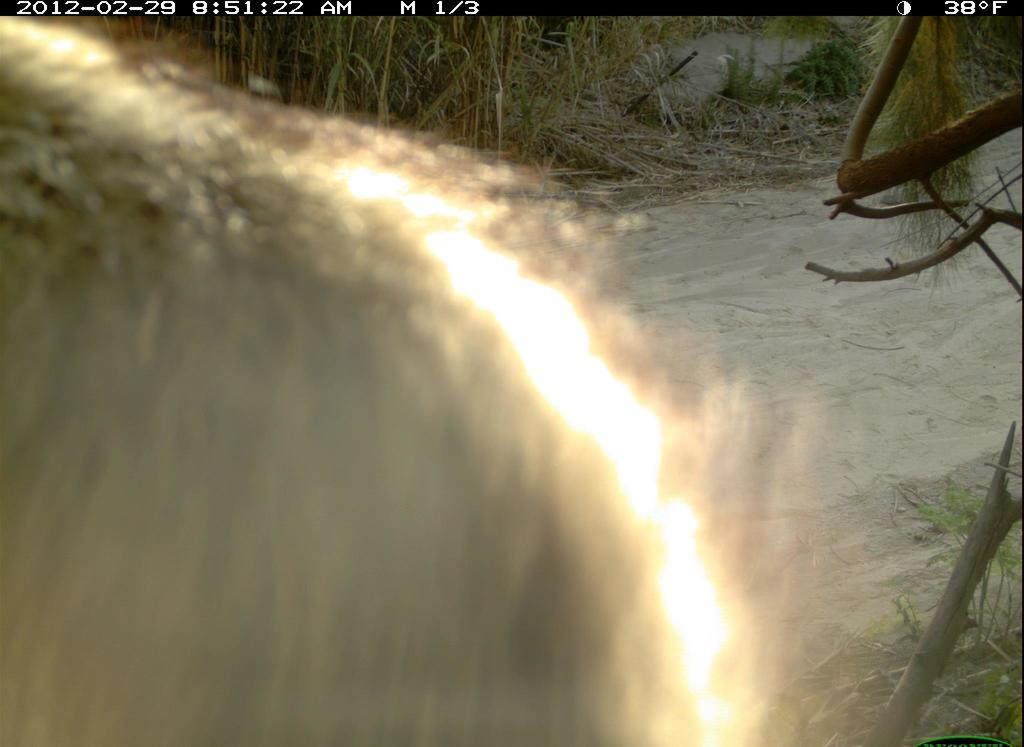coyote: (3, 18, 852, 744)
